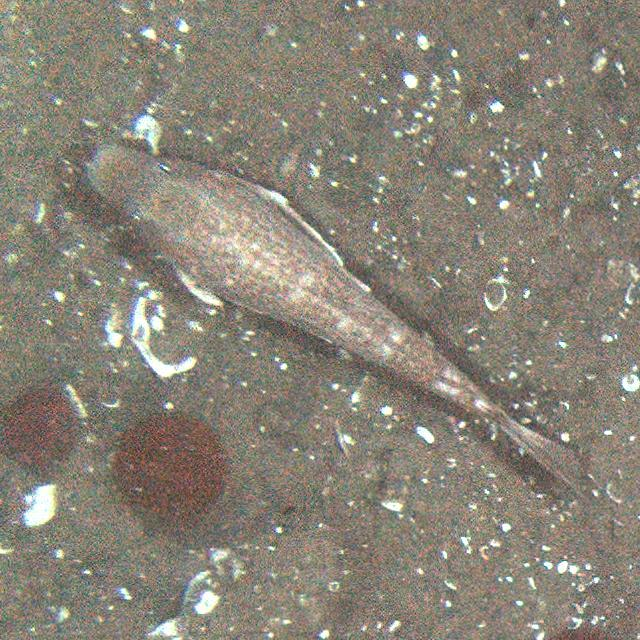roundfish: (86, 138, 586, 502)
